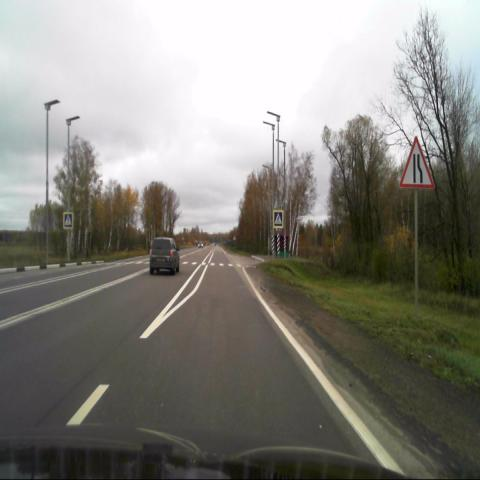1_20_2: (399, 136, 433, 189)
